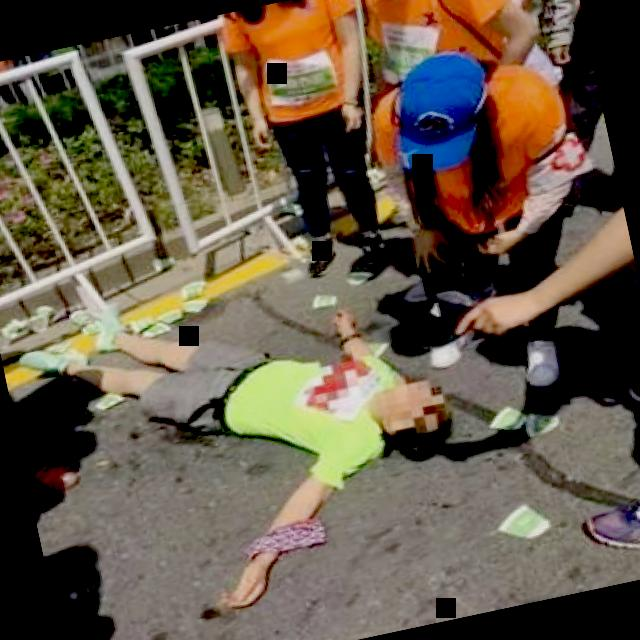Fall-Detected: (9, 221, 504, 640)
